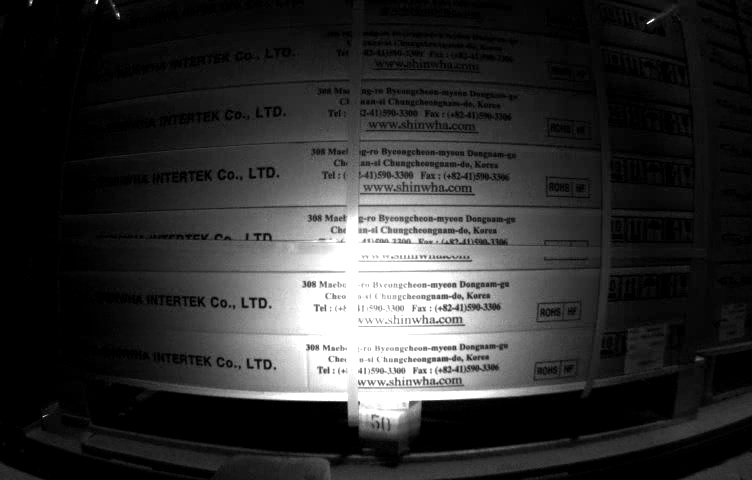True Barcode: (628, 325, 666, 370), (720, 303, 747, 341)
